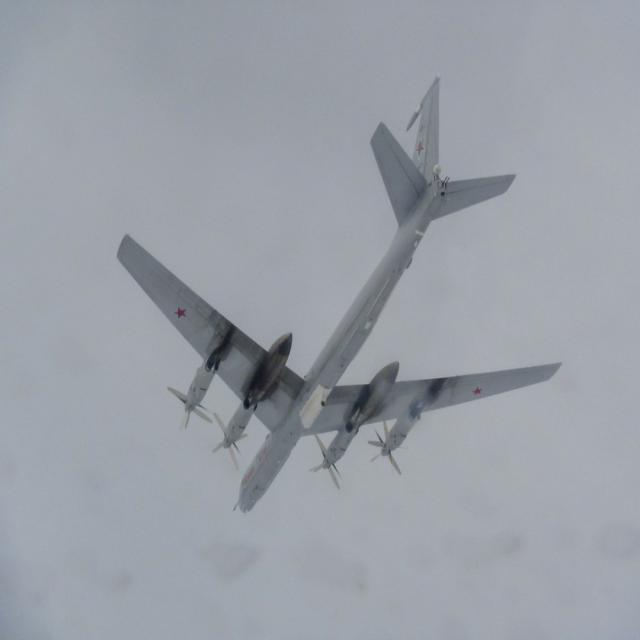MIL_Plane: (117, 72, 563, 513)
